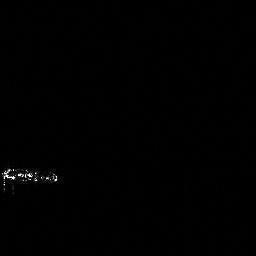ship: (1, 163, 68, 191)
